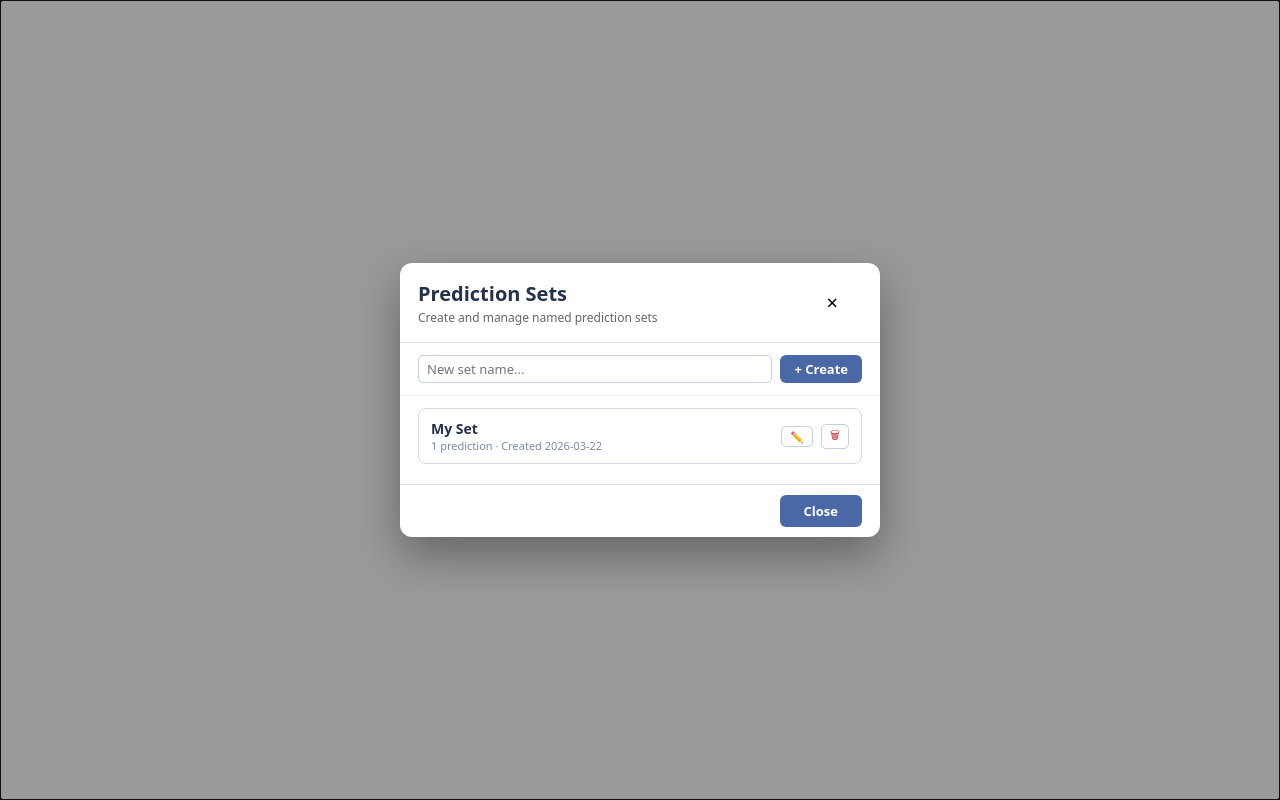
Test: PredictionsPanel › opens set view when a set is clicked
Step 1. Click the text "My Set" → point(454, 428), box left=431, top=419, right=478, bottom=438
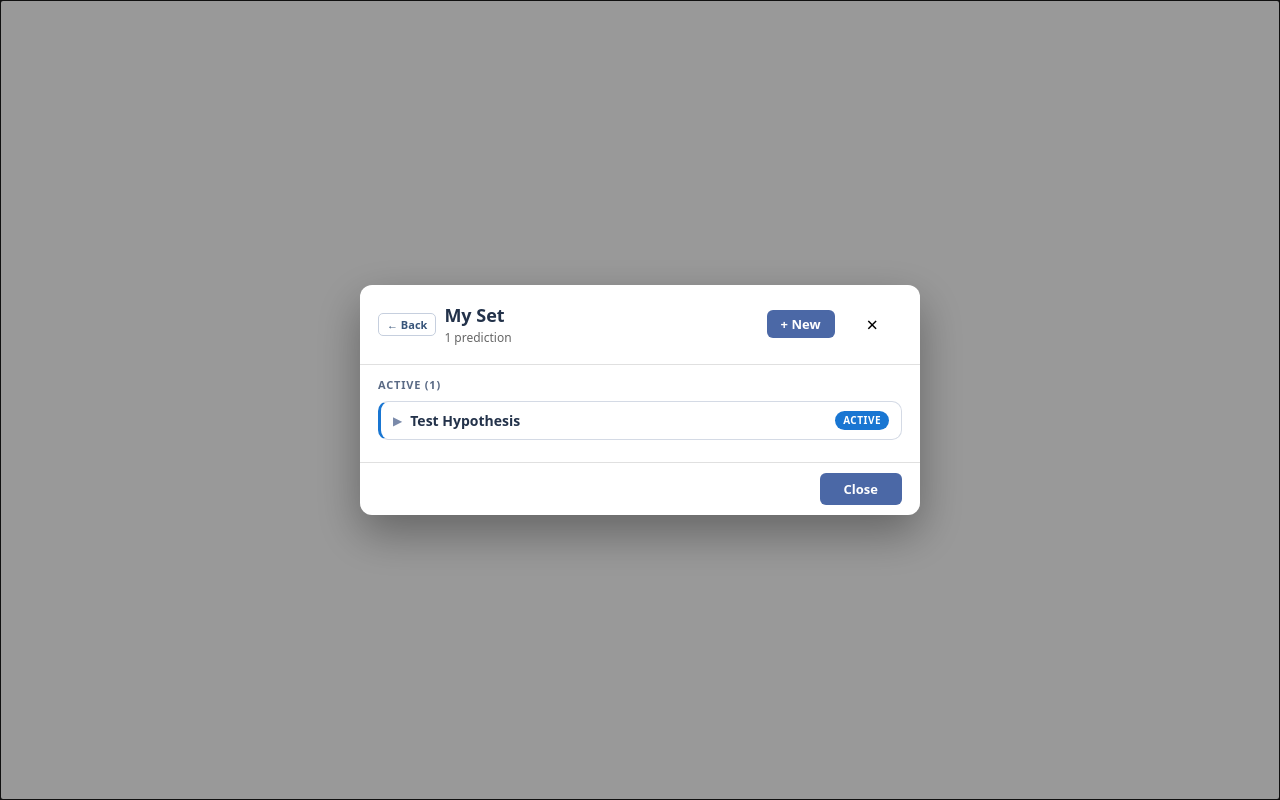
Result: the text "Test Hypothesis" is shown at left=410, top=411, right=520, bottom=430
